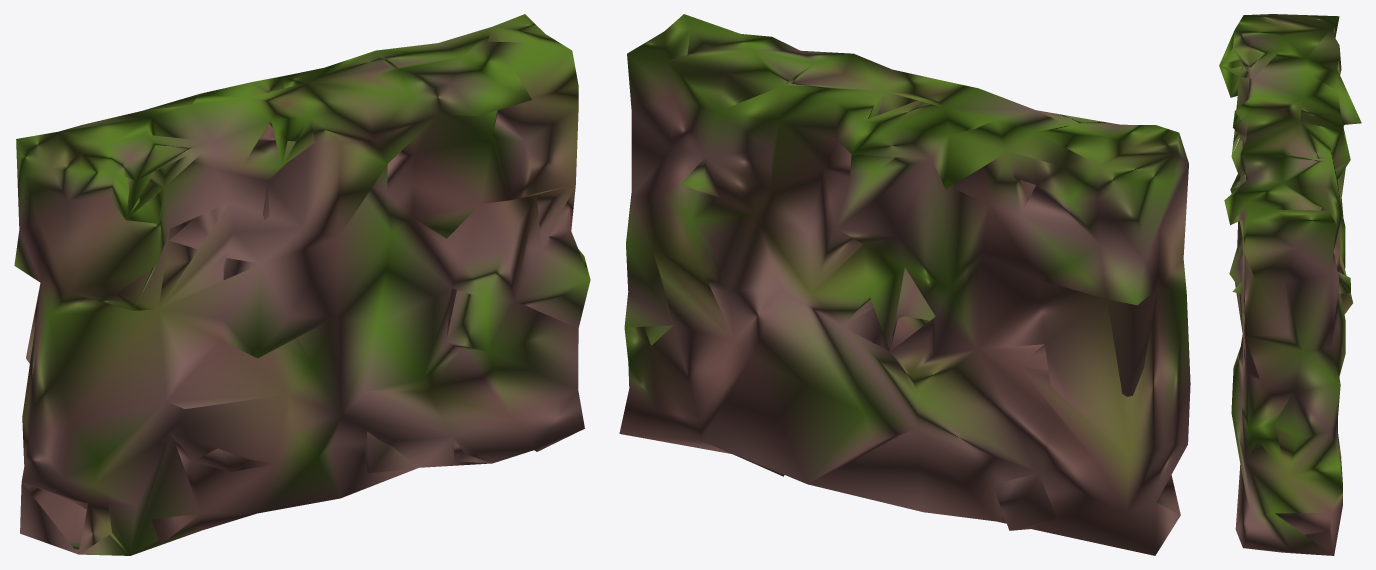
The model's file is gen3d-vine-covered-rock-wall-lod1.glb.
3 renders of one model, left to right at view 1: azimuth 30°, elevation 25°; view 2: azimuth 150°, elevation 25°; view 3: azimuth 270°, elevation 25°, orthographic. The views are drawn at different scales.
Visible parts, largest first — view 1: part_0; view 2: part_0; view 3: part_0.
Boxes of the visible parts, left/top/right/bottom form: part_0: left=14, top=14, right=590, bottom=555; part_0: left=619, top=14, right=1190, bottom=555; part_0: left=1219, top=14, right=1361, bottom=555.
Size of the model in its own units: 1.38 by 0.9699 by 0.3664.
